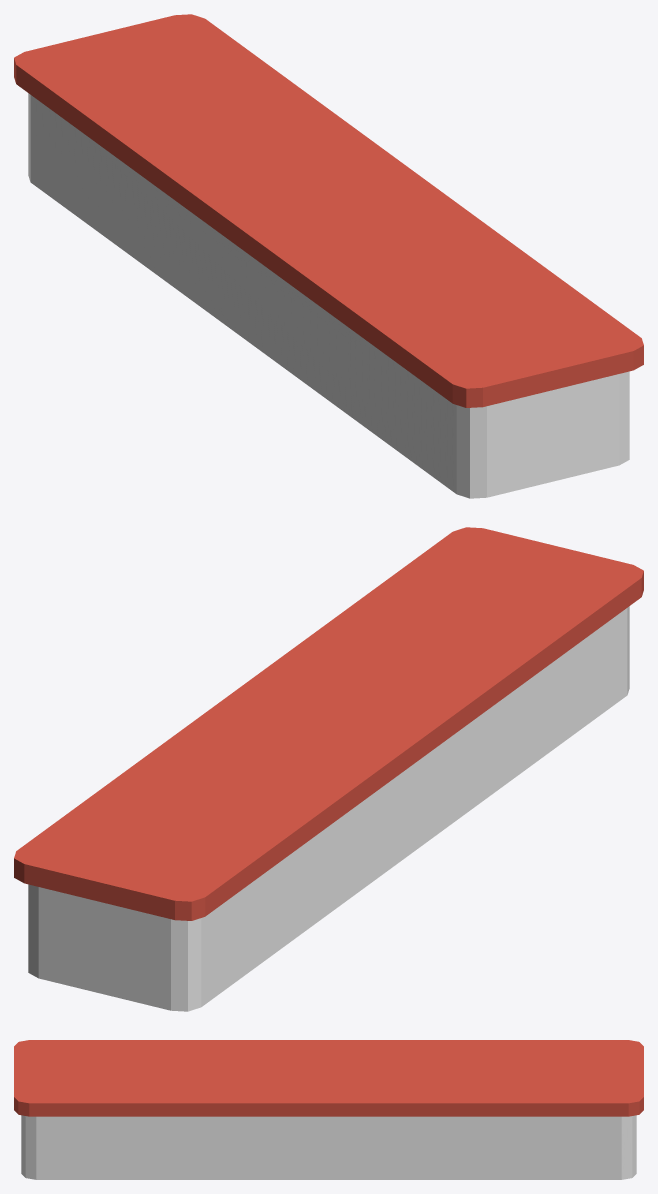
The model's file is Counter.fbx.
3 renders of one model, top to bottom at view 1: azimuth 30°, elevation 25°; view 2: azimuth 150°, elevation 25°; view 3: azimuth 270°, elevation 25°, orthographic. The views are drawn at different scales.
Parts seen in each view (by area): view 1: Counter; view 2: Counter; view 3: Counter.
Part boxes in pixels (x1,y1,x2,y2): Counter: [14, 14, 643, 498]; Counter: [14, 527, 643, 1011]; Counter: [14, 1040, 643, 1179].
Size of the model in its own units: 4.17 by 2.45 by 17.55.
